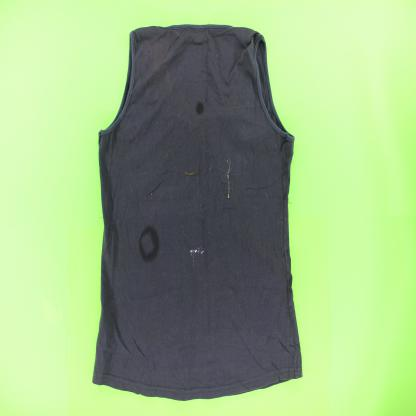stain: (137, 223, 161, 264), (187, 246, 206, 271), (223, 156, 233, 199), (194, 102, 205, 118), (182, 168, 199, 178)
